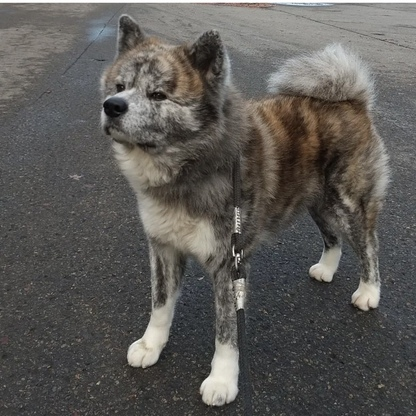akita: (93, 8, 397, 410)
